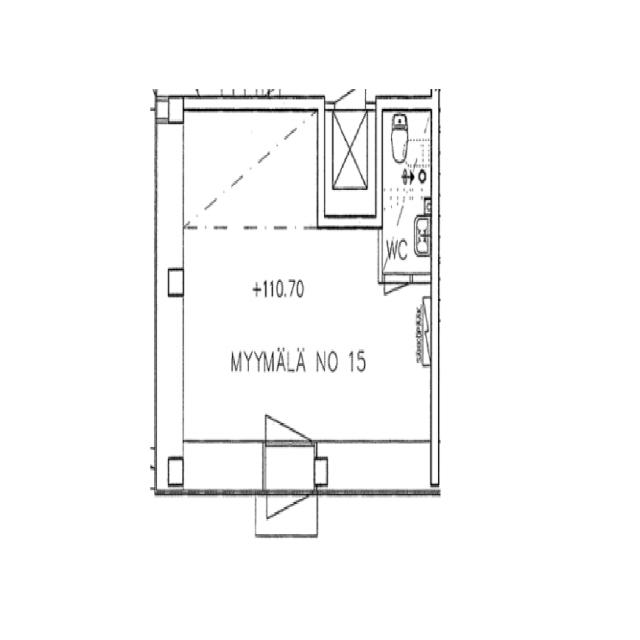zone: (165, 234, 436, 448), (174, 109, 319, 231), (380, 104, 433, 284)
